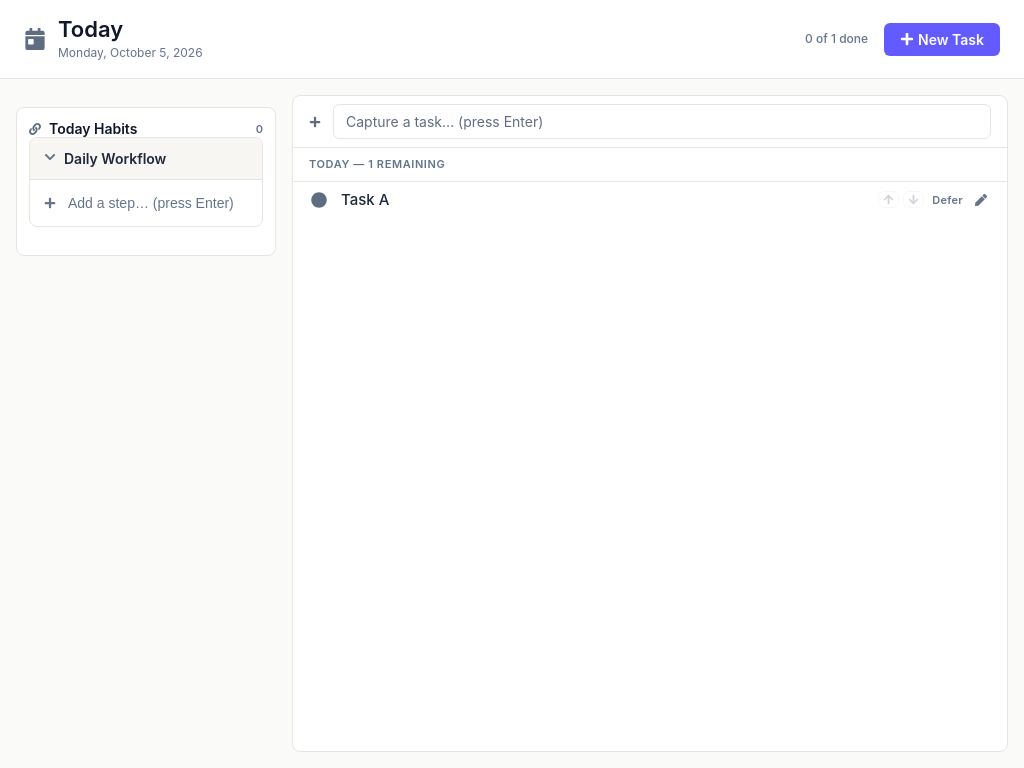
Scenario: TodayView row actions › offers a single undo after completing a row and restores the previous status
This screenshot has width=1024, height=768.
Click the button named "Complete \"Task A\"" at (319, 200), box [309, 190, 329, 210]
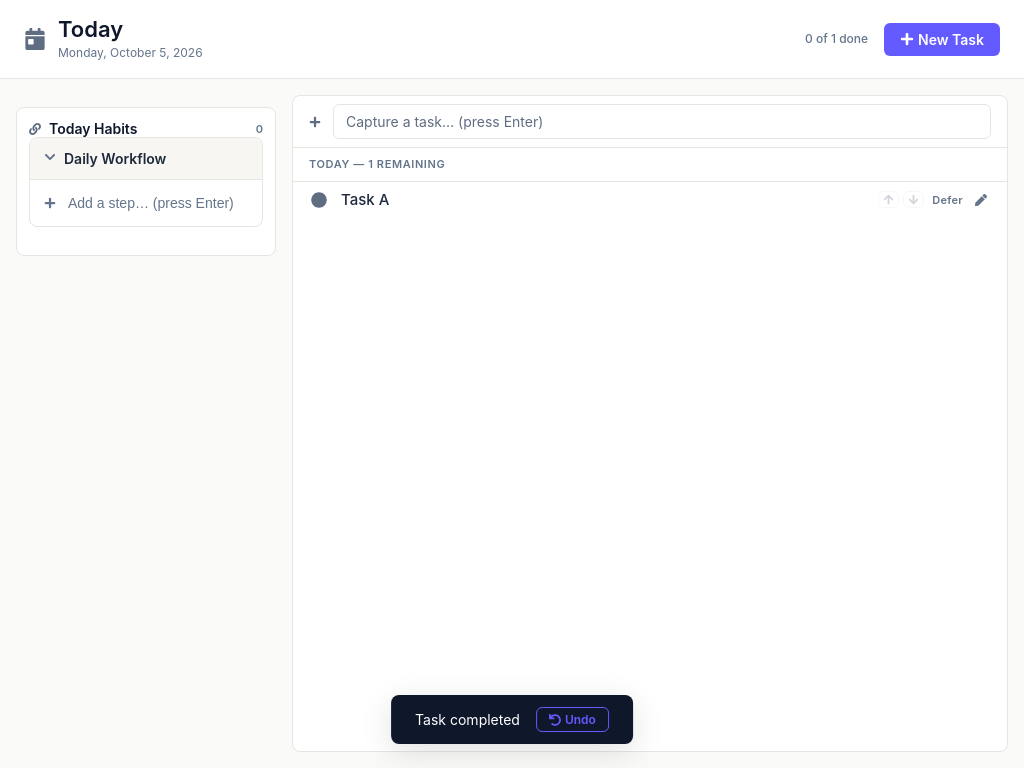
Check: the text "Task completed" is shown, box [415, 709, 520, 730]
Click the button "Undo" at (572, 720), box [536, 707, 609, 732]
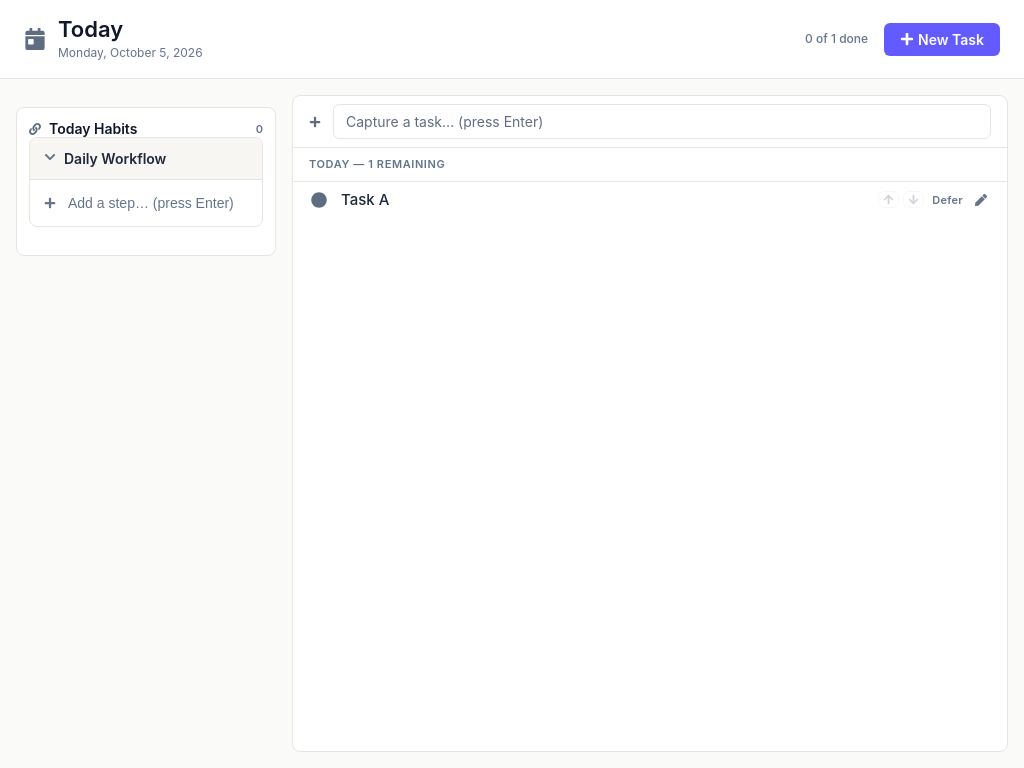
Check: the button "Undo" is gone
